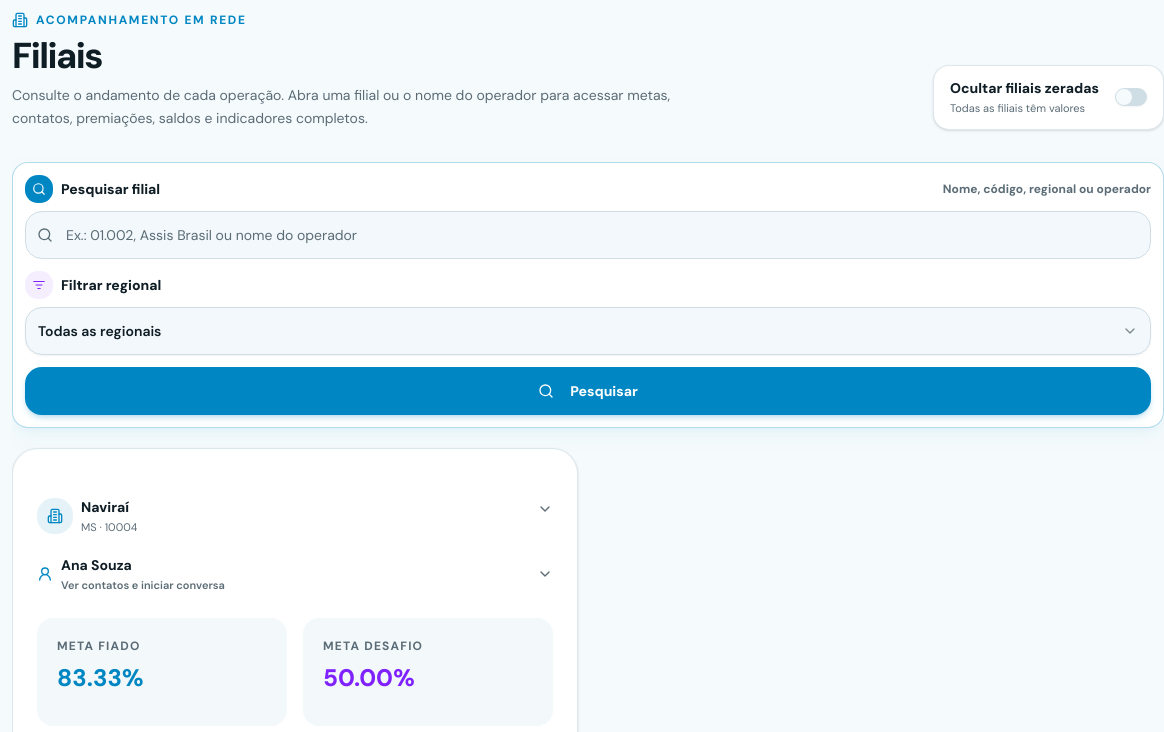
Test case: botão de pesquisa de Filiais › abre os contatos e disponibiliza conversa privada ao selecionar o operador
Expected: the text "Contato do operador" is not shown
Click the button "Ana Souza Ver contatos e iniciar conversa".
click(96, 565)  # box [37,555,553,594]
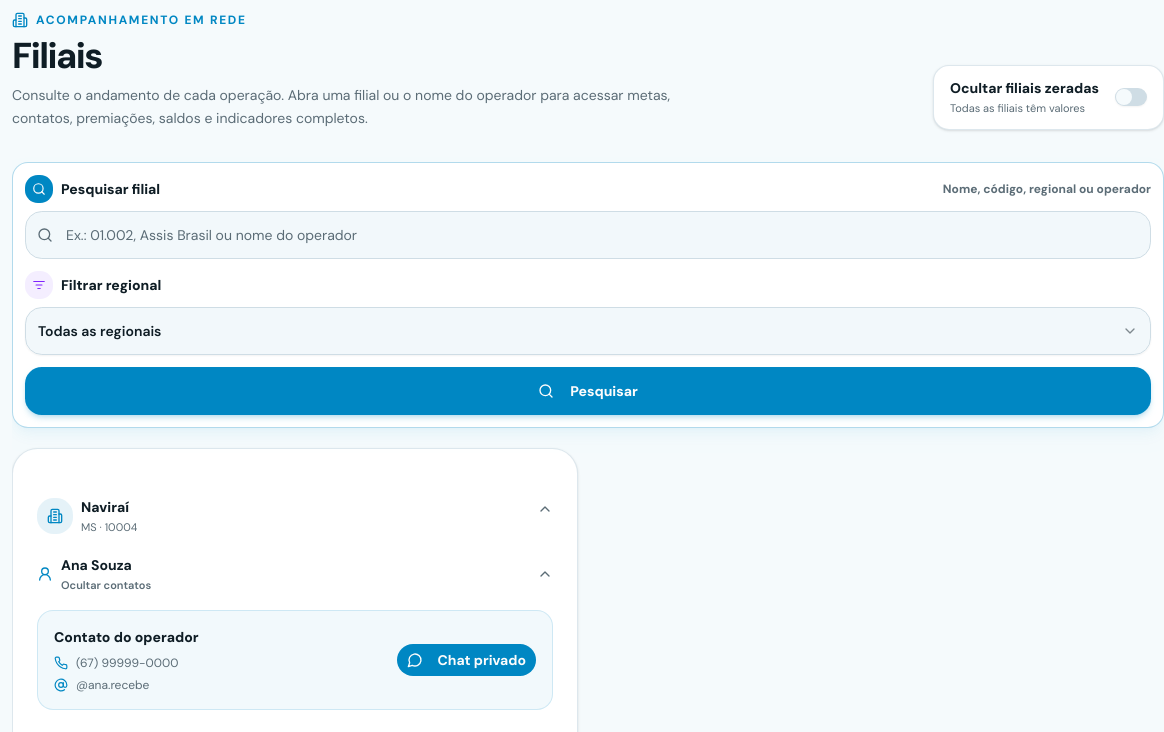
Expected: the text "Contato do operador" is shown, [54,626,198,646]
Expected: the text "(67) 99999-0000" is shown, [54,654,198,670]
Expected: the text "@ana.recebe" is shown, [54,676,149,692]
